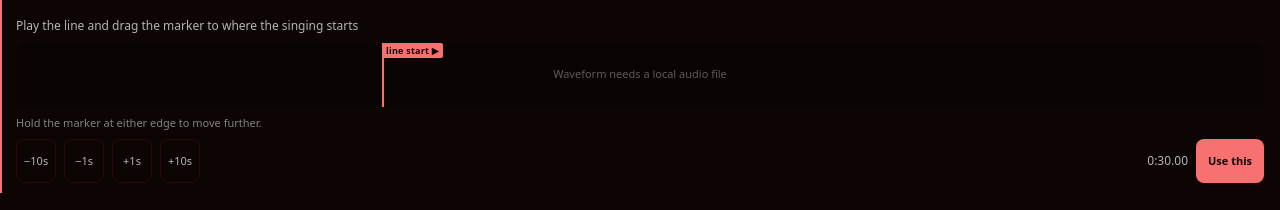
it: DragRetimeStrip start marker › flips at the right edge instead of being clipped
Step 1. Set the slider labelled "Waveform needs a local audio file line start ▶" to "36" → (640, 74), box [16,42,1264,106]
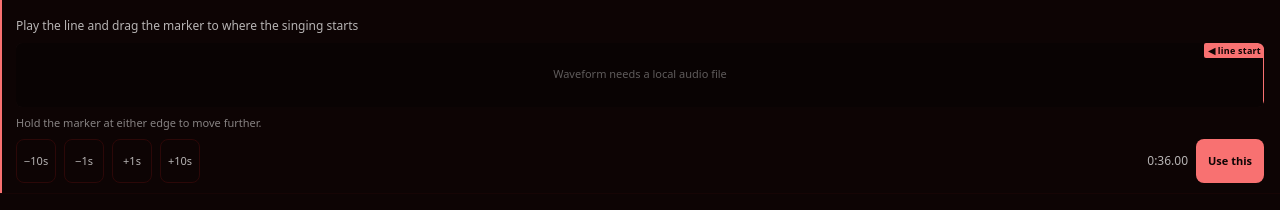
expect the text "◀ line start" is shown: met, box [1204,42,1264,58]
expect the text "line start ▶" is gone: met
